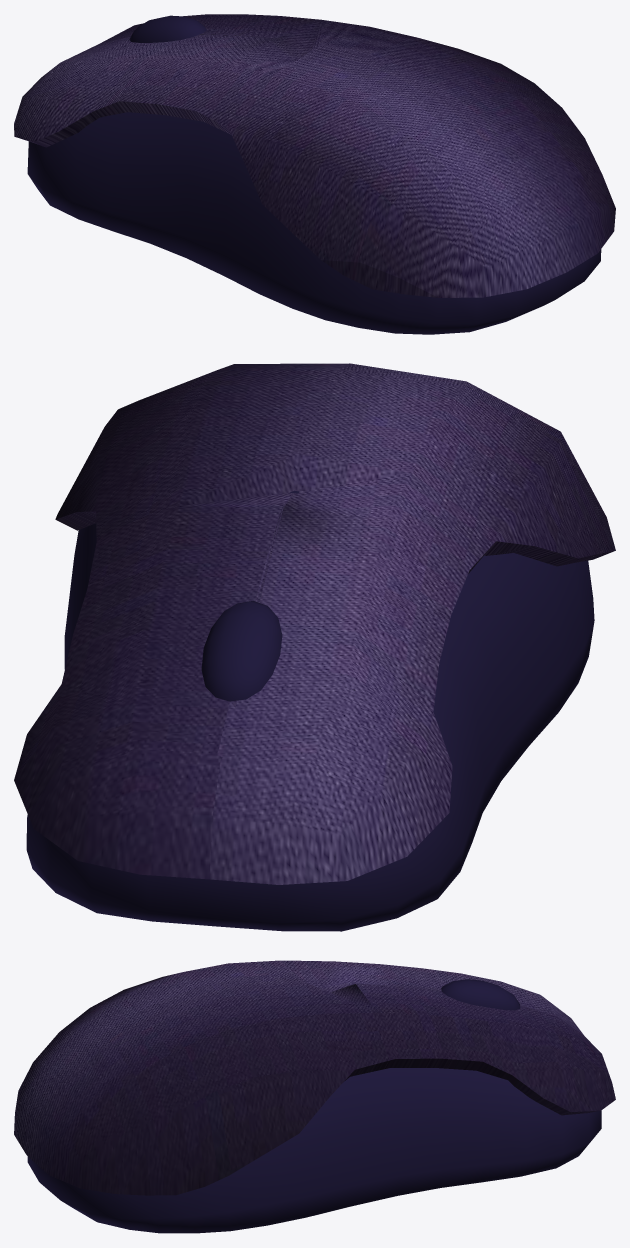
Rendered from Bedroom_mouse.glb.
The picture shows the model from 3 angles, top to bottom: view 1: azimuth 30°, elevation 25°; view 2: azimuth 150°, elevation 25°; view 3: azimuth 270°, elevation 25°; orthographic projection. The views are drawn at different scales.
Visible parts, largest first — view 1: Cube.002, Cube.001, Cube.003; view 2: Cube.002, Cube.001, Cube.003; view 3: Cube.002, Cube.001, Cube.003.
Part boxes in pixels (x1,y1,x2,y2): Cube.002: (14, 14, 615, 297); Cube.001: (27, 112, 601, 334); Cube.003: (129, 15, 206, 42); Cube.002: (14, 363, 615, 884); Cube.001: (26, 490, 594, 931); Cube.003: (201, 601, 282, 701); Cube.002: (14, 960, 615, 1195); Cube.001: (27, 1068, 601, 1233); Cube.003: (441, 979, 520, 1010).
Bounding box in the file's own units: 0.3467 × 0.1577 × 0.4944.
2 materials, 1 textured.
